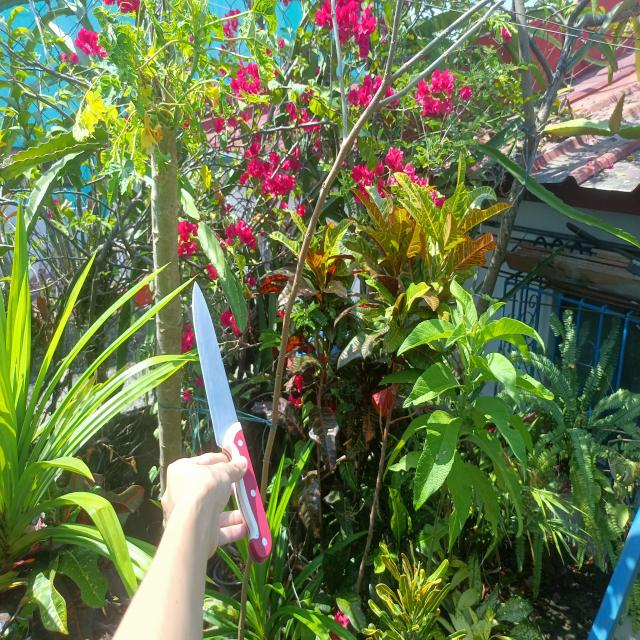knife: (192, 281, 272, 563)
